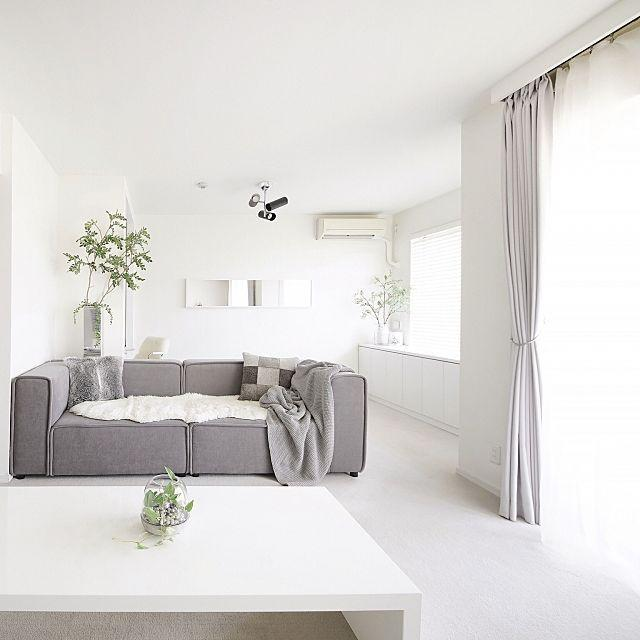white desk: (7, 478, 424, 636)
